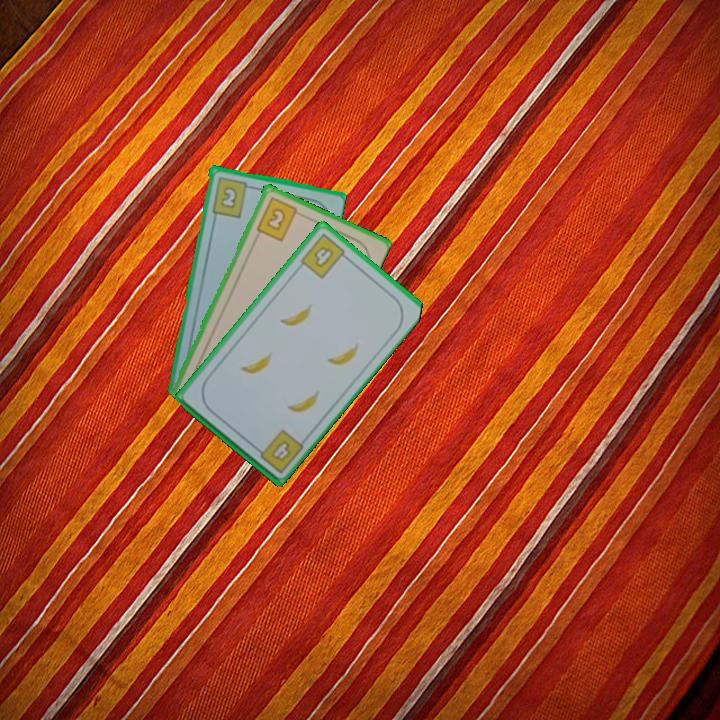2b: (252, 193, 305, 244), (208, 173, 255, 220)
4b: (297, 230, 352, 282), (250, 426, 306, 476)
